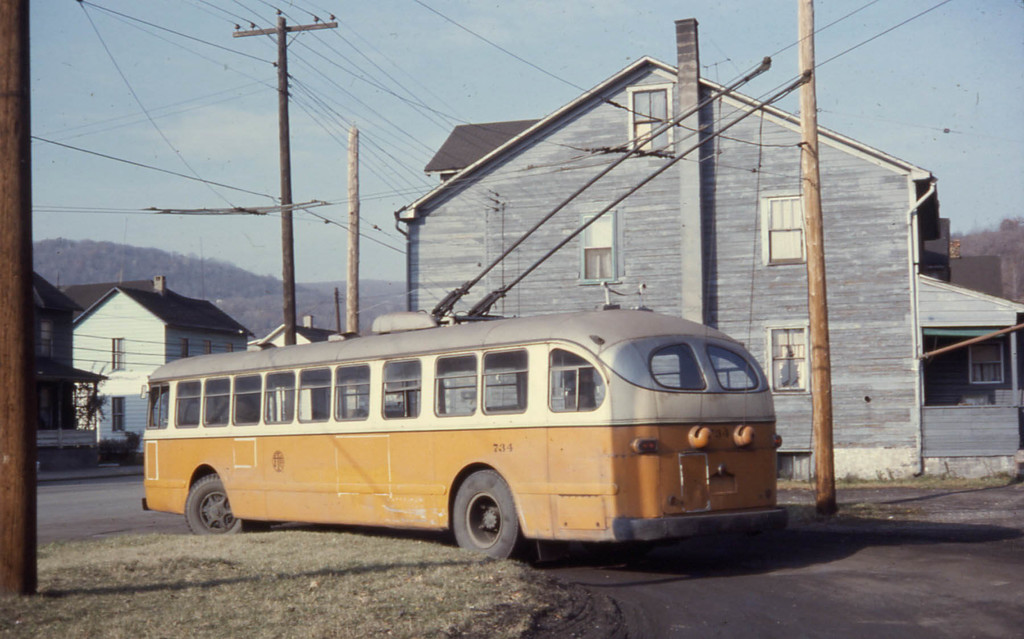Bus: (141, 299, 787, 567)
